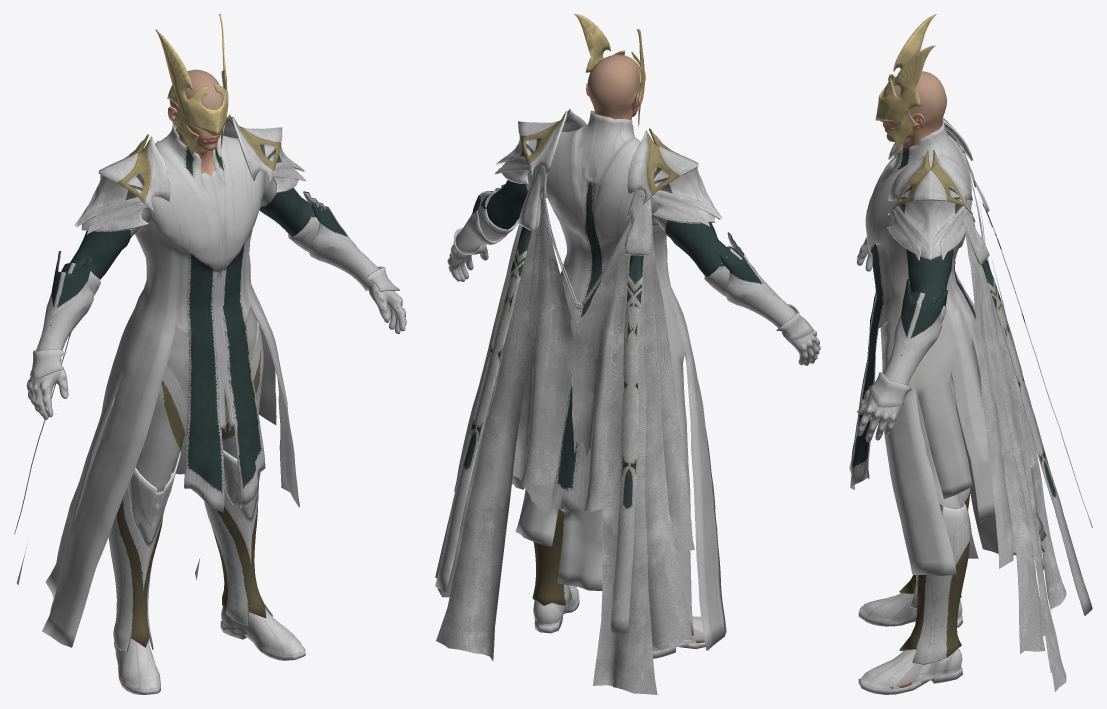
3 views of the same model, side by side, from view 1: azimuth 30°, elevation 25°; view 2: azimuth 150°, elevation 25°; view 3: azimuth 270°, elevation 25° (orthographic).
Visible parts, largest first — view 1: GM_0008_T05_Body, GM_0008_T05_Boots, GM_0008_T05_Glove, GM_0008_T05_Shoulder, GM_0008_T05_Pants, GM_0008_T05_Helmet, GM_BaseHead; view 2: GM_0008_T05_Cape, GM_0008_T05_Body, GM_0008_T05_Shoulder, GM_0008_T05_Glove, GM_0008_T05_Boots, GM_BaseHead, GM_0008_T05_Helmet; view 3: GM_0008_T05_Body, GM_0008_T05_Cape, GM_0008_T05_Boots, GM_0008_T05_Shoulder, GM_0008_T05_Glove, GM_0008_T05_Helmet, GM_BaseHead, GM_0008_T05_Pants.
Part boxes in pixels (left/top/right/bottom): GM_0008_T05_Body: left=42, top=122, right=398, bottom=647; GM_0008_T05_Boots: left=108, top=450, right=305, bottom=694; GM_0008_T05_Glove: left=26, top=191, right=406, bottom=420; GM_0008_T05_Shoulder: left=74, top=114, right=306, bottom=234; GM_0008_T05_Pants: left=119, top=309, right=263, bottom=682; GM_0008_T05_Helmet: left=155, top=14, right=228, bottom=156; GM_BaseHead: left=167, top=69, right=222, bottom=164; GM_0008_T05_Cape: left=435, top=165, right=694, bottom=694; GM_0008_T05_Body: left=486, top=110, right=729, bottom=650; GM_0008_T05_Shoulder: left=495, top=109, right=721, bottom=226; GM_0008_T05_Glove: left=447, top=180, right=820, bottom=365; GM_0008_T05_Boots: left=532, top=508, right=705, bottom=658; GM_BaseHead: left=586, top=54, right=641, bottom=120; GM_0008_T05_Helmet: left=574, top=14, right=645, bottom=126; GM_0008_T05_Body: left=849, top=118, right=1046, bottom=575; GM_0008_T05_Cape: left=947, top=132, right=1092, bottom=691; GM_0008_T05_Boots: left=858, top=487, right=970, bottom=694; GM_0008_T05_Shoulder: left=887, top=118, right=972, bottom=260; GM_0008_T05_Glove: left=856, top=237, right=948, bottom=442; GM_0008_T05_Helmet: left=875, top=14, right=936, bottom=152; GM_BaseHead: left=879, top=71, right=946, bottom=148; GM_0008_T05_Pants: left=882, top=324, right=961, bottom=688.
Bounding box in the file's own units: 1.26 × 2.04 × 0.7231.
Materials: 10 (9 with a texture image).
